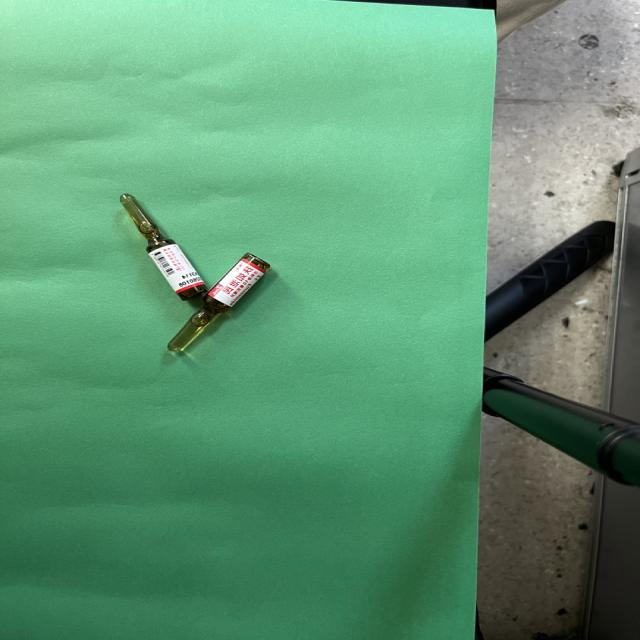Ampoules: (167, 253, 270, 352), (119, 194, 207, 301)
